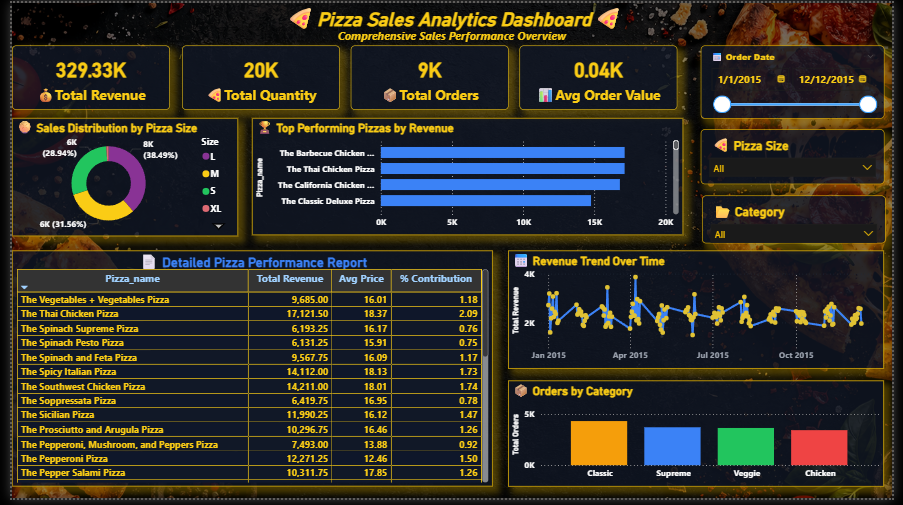

What the dashboard file says about the page in this screenshot:
{"tool":"powerbi","page":{"name":"Page 1","canvas":[1280,720],"ordinal":0},"visuals":[{"type":"textbox","title":"🍕 Pizza Sales Analytics Dashboard🍕 ","box":[0,0,1279.8,72.4],"z":0},{"type":"card","fields":{"Values":["Pizza_all_data.Total Revenue"]},"box":[0,61.4,229.4,93.3],"z":1000},{"type":"card","fields":{"Values":["Pizza_all_data.Total Quantity"]},"box":[246.6,61.4,229.4,93.3],"z":2000},{"type":"card","fields":{"Values":["Pizza_all_data.Total Orders"]},"box":[493.3,61.4,229.4,93.3],"z":3000},{"type":"card","fields":{"Values":["Pizza_all_data.Avg Order Value"]},"box":[737.4,61.4,229.4,93.3],"z":4000},{"type":"slicer","title":"📅 Order Date","fields":{"Values":["Pizza_all_data.Date"]},"box":[1001.2,61.4,267.5,106.7],"z":5000},{"type":"slicer","fields":{"Values":["Pizza_all_data.Size"]},"box":[1001.2,184.1,267.5,79.8],"z":6000},{"type":"slicer","fields":{"Values":["Pizza_all_data.Category"]},"box":[1003.7,279.8,267.5,69.9],"z":7000},{"type":"lineChart","title":"📅 Revenue Trend Over Time","fields":{"Y":["Pizza_all_data.Total Revenue"],"Category":["Pizza_all_data.Date"]},"box":[722.7,359.5,546,171.8],"z":8000},{"type":"clusteredBarChart","title":"🏆 Top Performing Pizzas by Revenue","fields":{"Category":["Pizza_all_data.Pizza_name"],"Y":["Pizza_all_data.Total Revenue"]},"box":[349.7,168.1,627,170.6],"z":9000},{"type":"donutChart","title":"🥧 Sales Distribution by Pizza Size","fields":{"Y":["Pizza_all_data.Total Quantity"],"Series":["Pizza_all_data.Size"]},"box":[0,168.1,328.8,171.8],"z":10000},{"type":"tableEx","title":"📄 Detailed Pizza Performance Report","fields":{"Values":["Pizza_all_data.Pizza_name","Pizza_all_data.Total Revenue","Pizza_all_data.Avg Price","Pizza_all_data.% Contribution"]},"box":[0,359.5,699.4,343.6],"z":11000},{"type":"clusteredColumnChart","title":"📦 Orders by Category","fields":{"Category":["Pizza_all_data.Category"],"Y":["Pizza_all_data.Total Orders"]},"box":[722.7,548.5,546,154.6],"z":12000}]}

Visuals, with their boxes in screenshot pixels (x1, y1, x2, y2), scaled from the page's 1280x720 canvas onto the 903x505 screenshot:
"🍕 Pizza Sales Analytics Dashboard🍕 " textbox: box(0, 0, 902, 51)
card - Pizza_all_data.Total Revenue: box(0, 43, 162, 109)
card - Pizza_all_data.Total Quantity: box(174, 43, 336, 109)
card - Pizza_all_data.Total Orders: box(348, 43, 510, 109)
card - Pizza_all_data.Avg Order Value: box(520, 43, 682, 109)
"📅 Order Date" slicer: box(706, 43, 895, 118)
slicer - Pizza_all_data.Size: box(706, 129, 895, 185)
slicer - Pizza_all_data.Category: box(708, 196, 897, 245)
"📅 Revenue Trend Over Time" lineChart: box(510, 252, 895, 373)
"🏆 Top Performing Pizzas by Revenue" clusteredBarChart: box(247, 118, 689, 238)
"🥧 Sales Distribution by Pizza Size" donutChart: box(0, 118, 232, 238)
"📄 Detailed Pizza Performance Report" tableEx: box(0, 252, 493, 493)
"📦 Orders by Category" clusteredColumnChart: box(510, 385, 895, 493)
